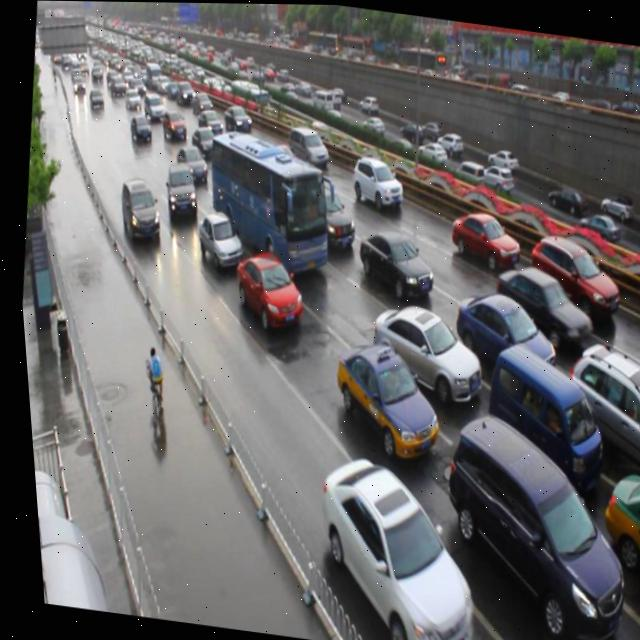car: (291, 445, 483, 640), (320, 332, 441, 461), (358, 296, 485, 407), (545, 333, 640, 480), (442, 282, 558, 382), (517, 226, 623, 322), (484, 258, 593, 349), (224, 245, 306, 334), (582, 465, 640, 584), (348, 219, 435, 297), (441, 203, 520, 274), (299, 180, 358, 249), (342, 150, 405, 212), (187, 207, 244, 272), (156, 158, 201, 226), (170, 139, 209, 183)
truck: (416, 407, 633, 640), (468, 337, 604, 485), (111, 173, 165, 246), (280, 122, 330, 169)
van: (191, 127, 335, 278)
